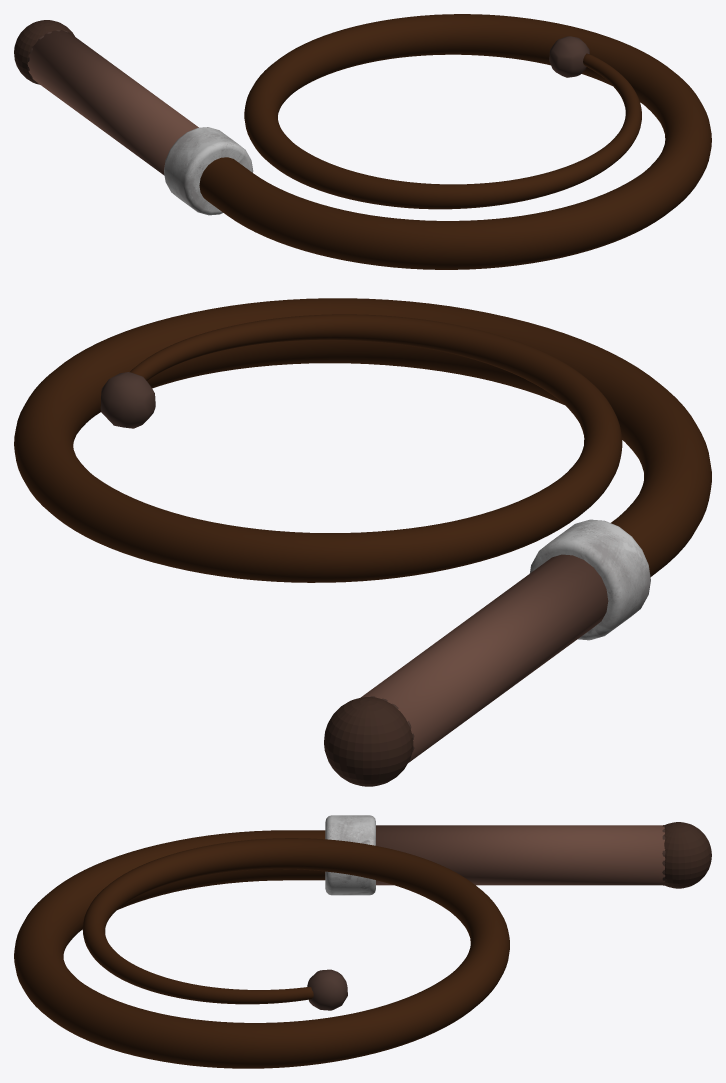
The model's file is Fouet3.glb.
3 renders of one model, top to bottom at view 1: azimuth 30°, elevation 25°; view 2: azimuth 150°, elevation 25°; view 3: azimuth 270°, elevation 25°, orthographic. The views are drawn at different scales.
Visible parts, largest first — view 1: polySurface366, Sphère, pCylinder3; view 2: polySurface366, Sphère, pCylinder3; view 3: polySurface366, Sphère, pCylinder3.
Boxes of the visible parts, x1,y1,x2,y2 form: polySurface366: (28, 14, 711, 269); Sphère: (14, 20, 198, 175); pCylinder3: (164, 127, 253, 215); polySurface366: (14, 298, 711, 758); Sphère: (324, 554, 608, 786); pCylinder3: (529, 519, 650, 640); polySurface366: (14, 825, 665, 1068); Sphère: (376, 822, 711, 888); pCylinder3: (325, 815, 375, 895).
Bounding box in the file's own units: 5.38 × 1.02 × 6.91.
5 materials, 2 textured.
